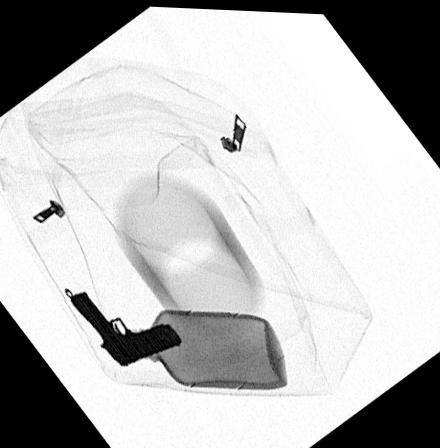Gun: (70, 290, 182, 366)
